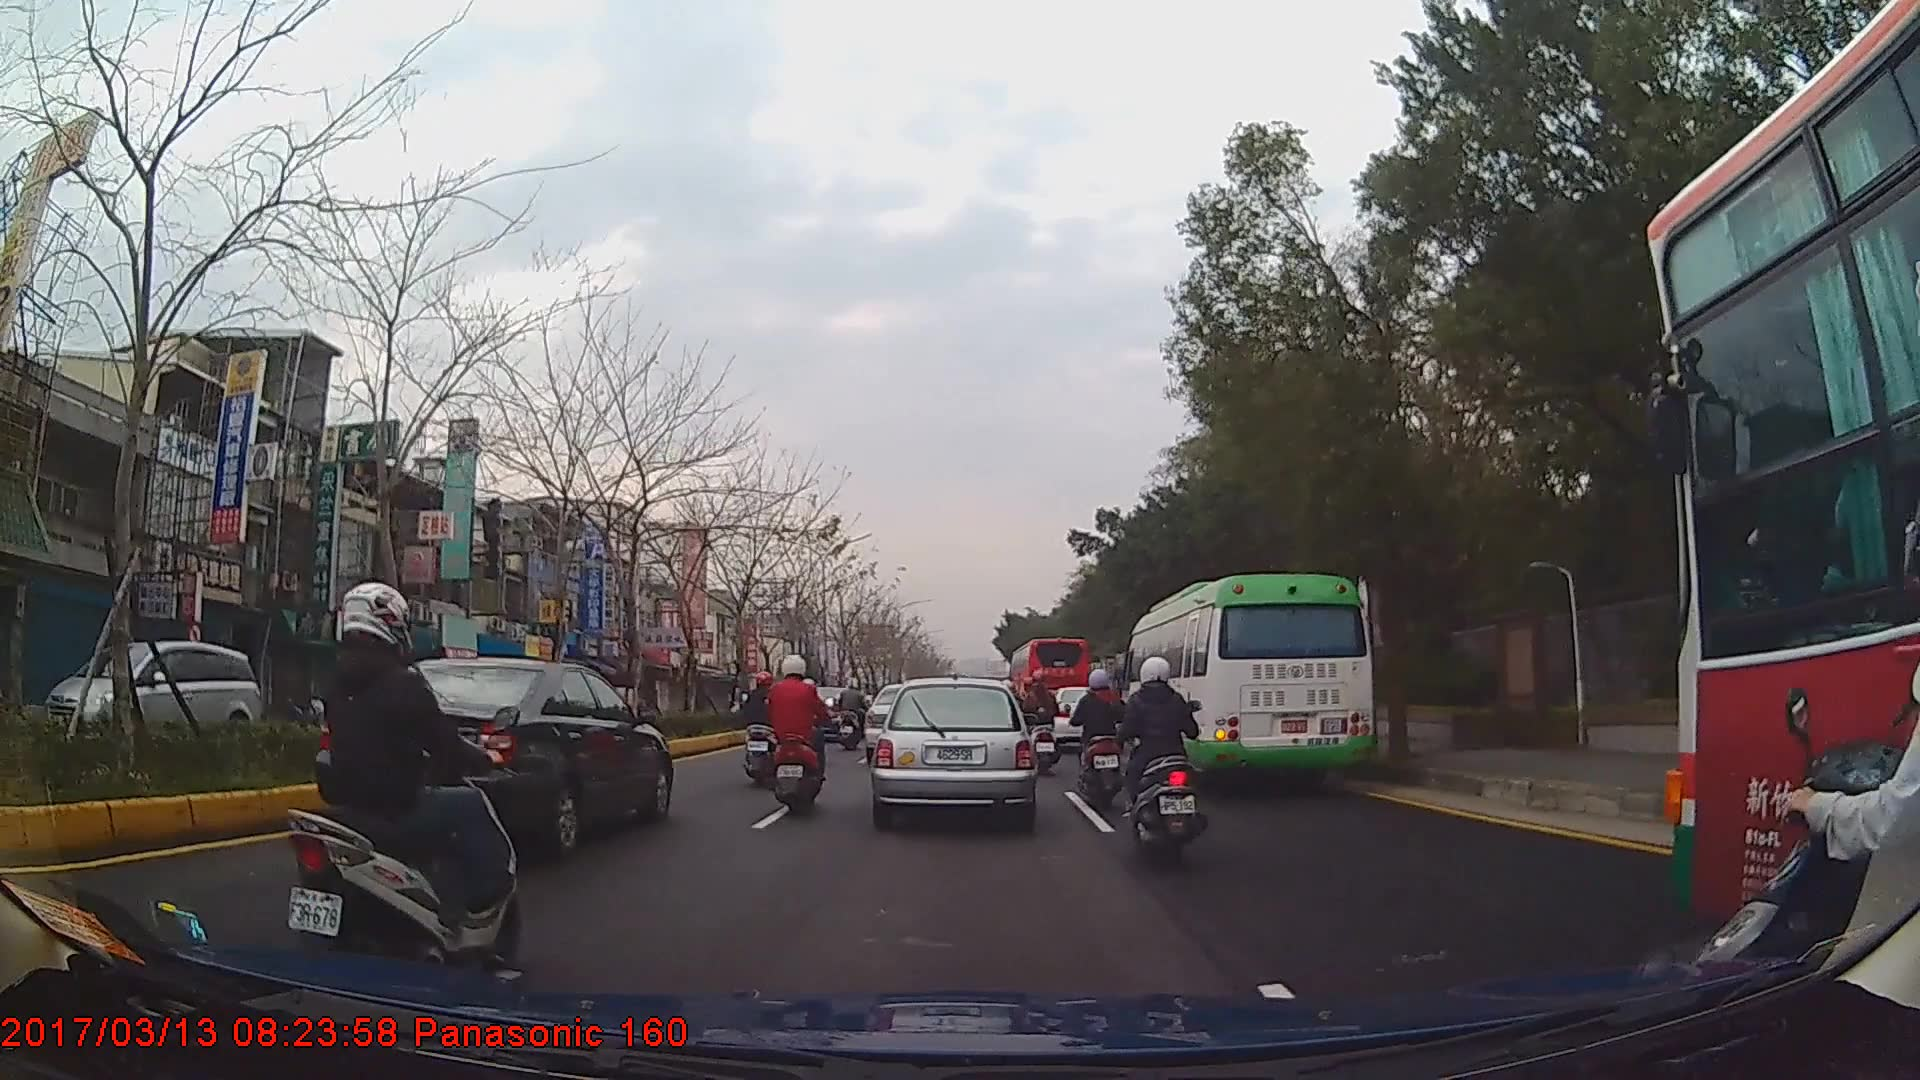rider: (1696, 491, 1920, 1021), (289, 581, 521, 996), (1124, 654, 1213, 864), (763, 651, 826, 818), (1068, 666, 1132, 813), (740, 669, 787, 788), (1021, 670, 1062, 778), (836, 678, 870, 751)
vehicle: (1650, 0, 1919, 1015), (311, 656, 671, 855), (1121, 571, 1379, 792), (871, 676, 1035, 826), (43, 641, 261, 749), (1009, 634, 1093, 730)
